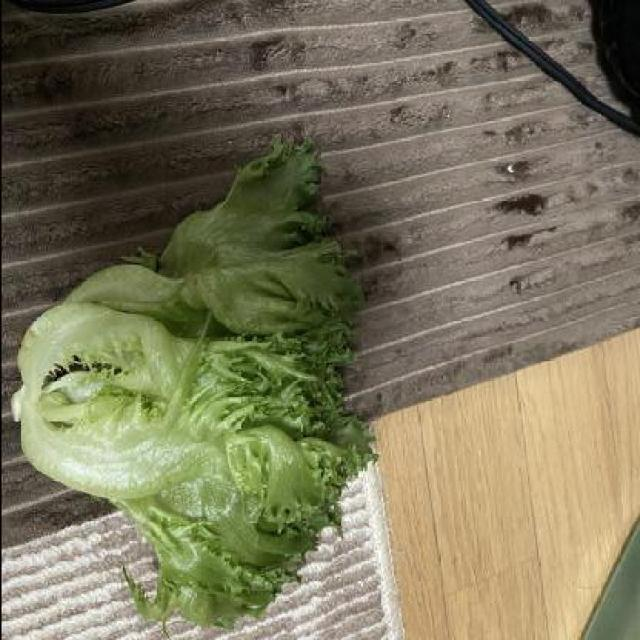Lettuce: (17, 130, 388, 631)
